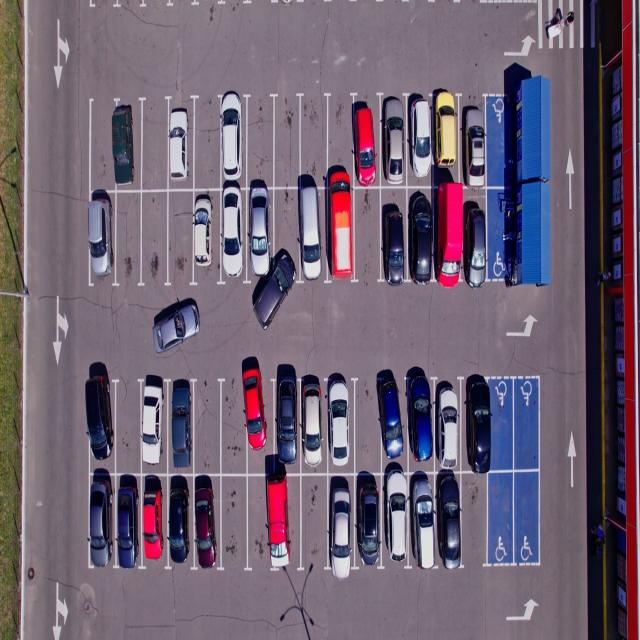space-empty: (297, 472, 330, 574), (192, 378, 224, 474), (192, 97, 224, 192), (138, 191, 170, 286), (218, 377, 249, 475), (139, 98, 171, 192), (113, 379, 144, 475), (114, 190, 145, 285), (352, 376, 382, 473), (218, 474, 248, 570), (168, 188, 198, 284), (351, 187, 381, 279), (247, 96, 277, 187), (327, 98, 357, 188), (247, 473, 274, 572), (271, 188, 301, 277), (514, 471, 543, 562), (486, 469, 514, 563), (462, 471, 490, 564), (298, 96, 326, 187), (273, 96, 301, 186), (515, 378, 542, 471), (489, 378, 514, 473), (90, 99, 115, 190)
space-occupied: (268, 471, 302, 573), (245, 372, 278, 473), (431, 183, 463, 281), (168, 94, 200, 190), (326, 375, 358, 471), (112, 97, 144, 192), (192, 477, 223, 572), (168, 378, 199, 473), (378, 474, 410, 566), (326, 472, 356, 570), (350, 472, 381, 566), (190, 188, 221, 282), (216, 187, 247, 281), (140, 379, 170, 476), (85, 375, 115, 472), (272, 374, 301, 473), (296, 186, 327, 278), (432, 375, 462, 470), (298, 375, 328, 470), (218, 96, 248, 190), (85, 191, 115, 285), (406, 376, 435, 472), (246, 186, 276, 278), (406, 92, 436, 184), (326, 186, 356, 278), (407, 185, 436, 280), (140, 472, 169, 566), (378, 186, 407, 280), (378, 376, 406, 473), (169, 476, 197, 572), (352, 95, 381, 186), (432, 94, 461, 185), (432, 470, 460, 563), (114, 472, 142, 564), (465, 378, 492, 473), (379, 97, 407, 187), (409, 471, 436, 564), (87, 473, 114, 563), (465, 96, 489, 186)
